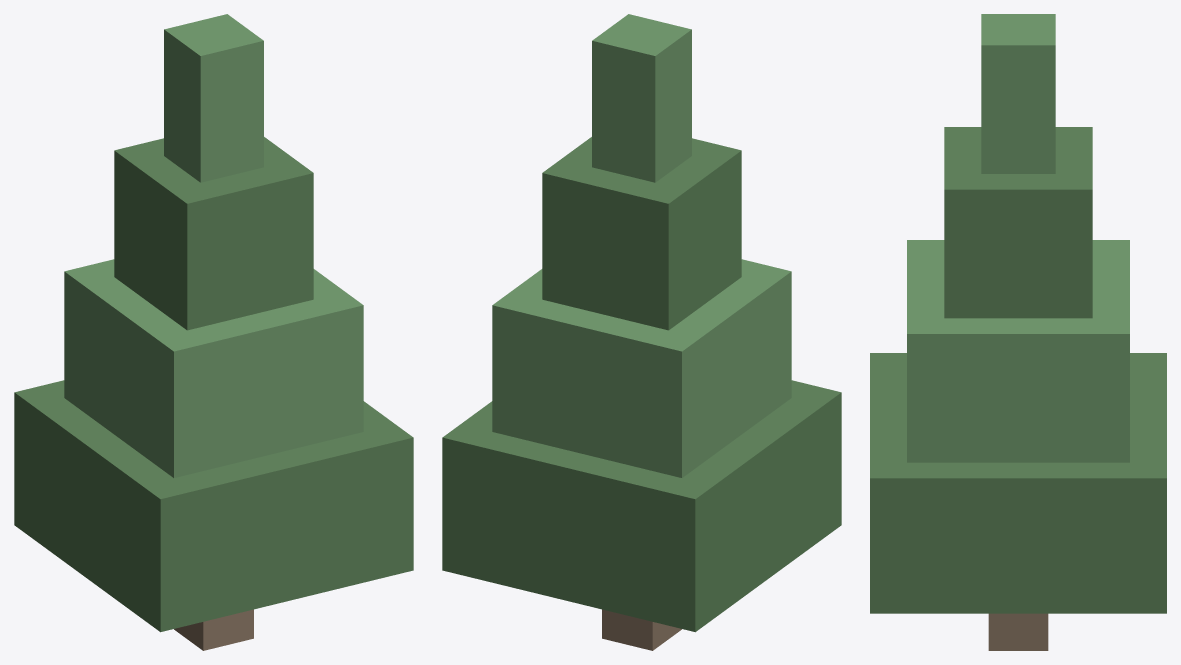
Rendered from propvar_pine_s.glb.
3 views of the same model, side by side, from view 1: azimuth 30°, elevation 25°; view 2: azimuth 150°, elevation 25°; view 3: azimuth 270°, elevation 25° (orthographic).
Parts seen in each view (by area): view 1: PropVar_Pine_S; view 2: PropVar_Pine_S; view 3: PropVar_Pine_S.
Part boxes in pixels (x1,y1,x2,y2): PropVar_Pine_S: [14, 14, 413, 650]; PropVar_Pine_S: [442, 14, 841, 650]; PropVar_Pine_S: [870, 14, 1166, 650].
Bounding box in the file's own units: 2 × 4.52 × 2.
